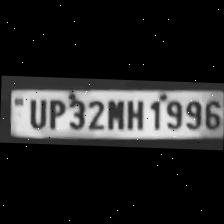1: (144, 95, 162, 130)
2: (85, 96, 105, 130)
3: (65, 94, 85, 128)
6: (202, 96, 222, 130)
9: (162, 96, 182, 130), (182, 96, 202, 128)
H: (124, 94, 146, 130)
M: (104, 94, 124, 130)
P: (44, 95, 64, 129)
U: (24, 94, 46, 128)
